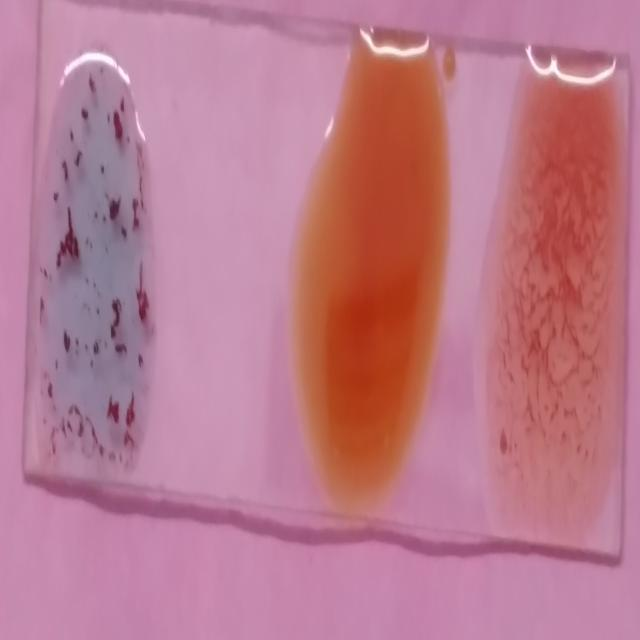A: (39, 47, 158, 481)
D: (500, 56, 618, 520)
